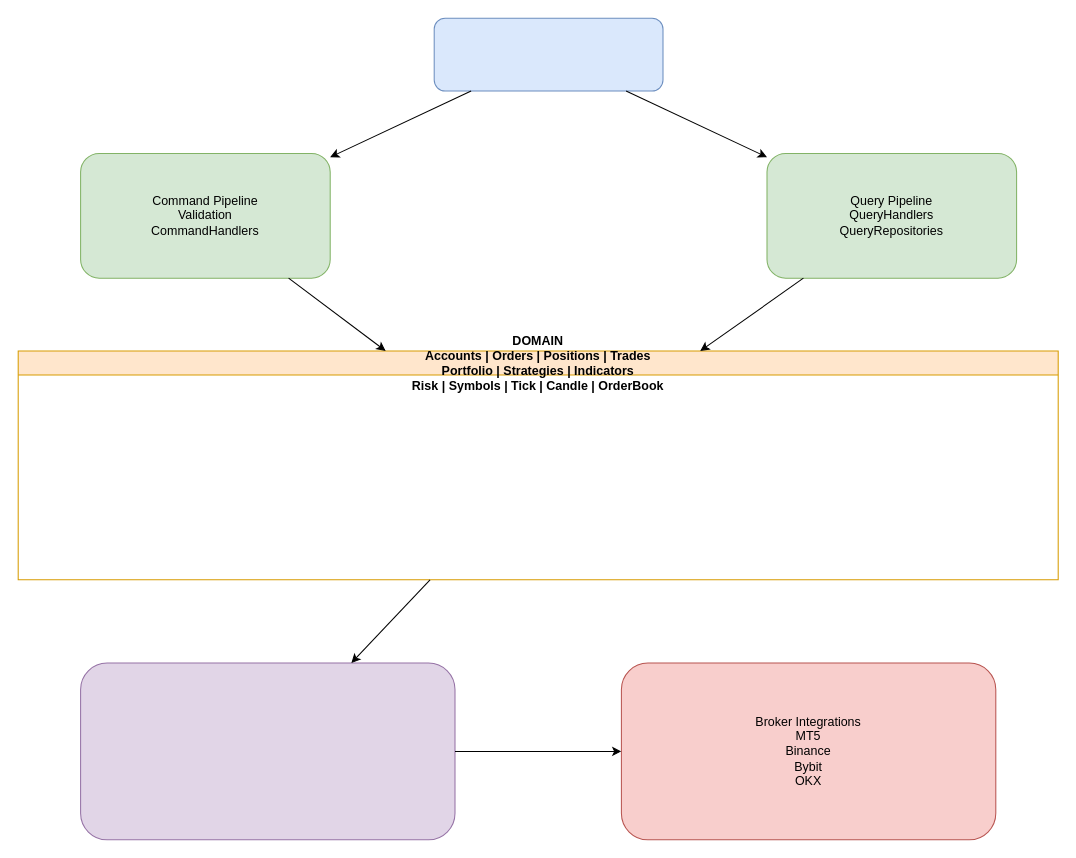
Some shapes in this 1076 by 858 pixel diagram are drawn without their labels. Each missing label, with the centre of its shape:
Infrastructure EF Core Repositories SQL Server Redis Message Bus: the point at 267,751
Trading API REST / SignalR / gRPC: the point at 548,54
